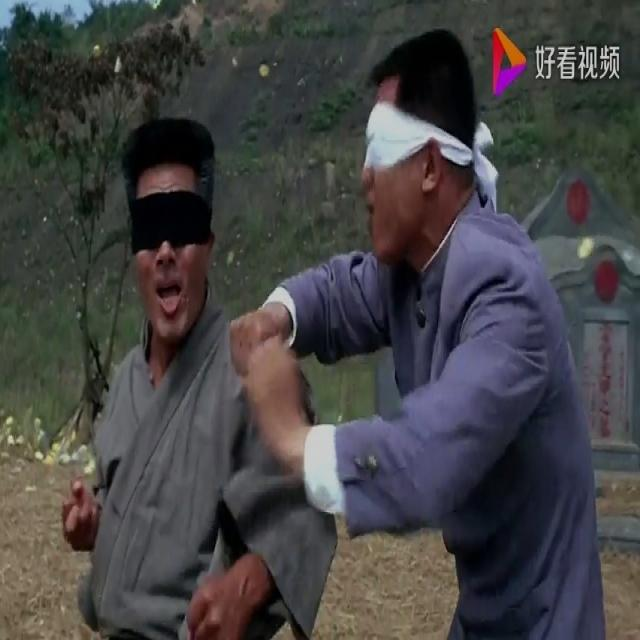fight: (60, 30, 606, 640)
